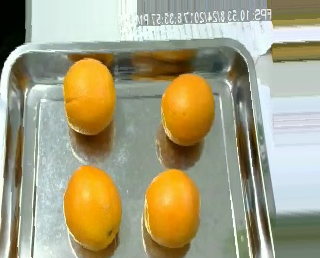Orange: (64, 165, 121, 250), (144, 169, 200, 248), (161, 73, 215, 148), (63, 57, 114, 135)
